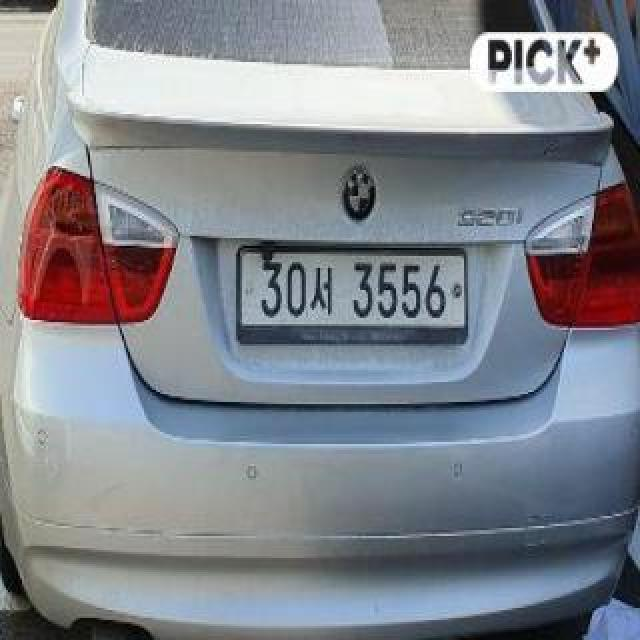car: (2, 0, 640, 640)
illegal_plate: (232, 243, 470, 350)
